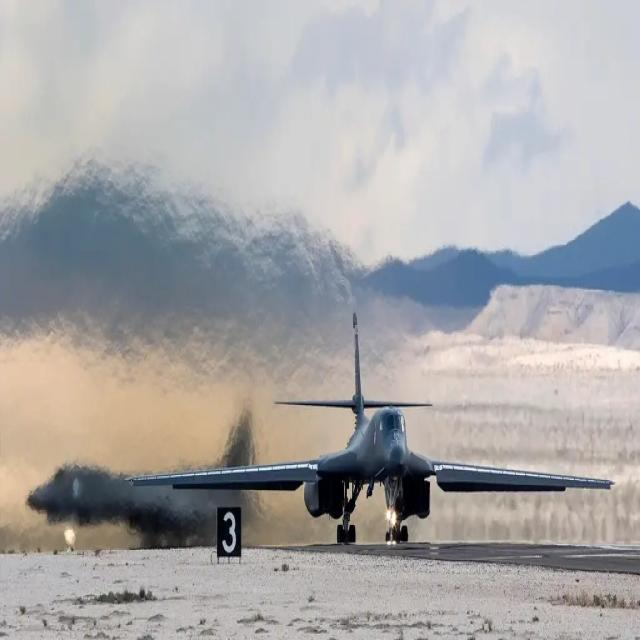MIL_Plane: (123, 311, 616, 544), (0, 444, 220, 516)
